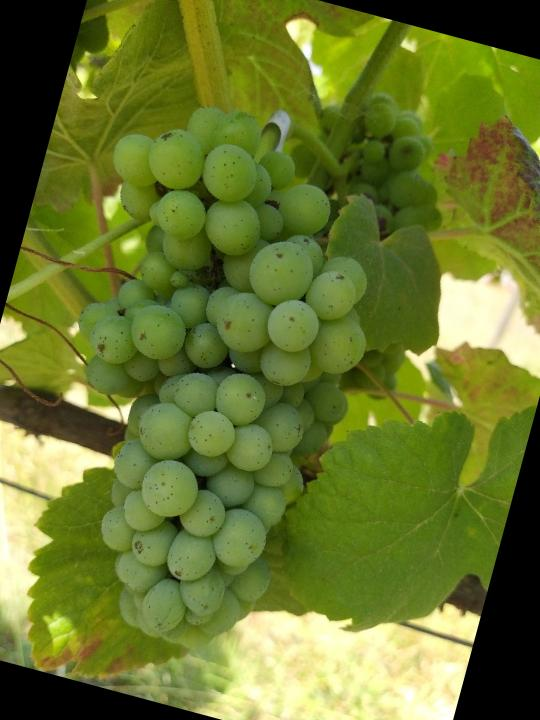grape: (0, 75, 427, 677)
